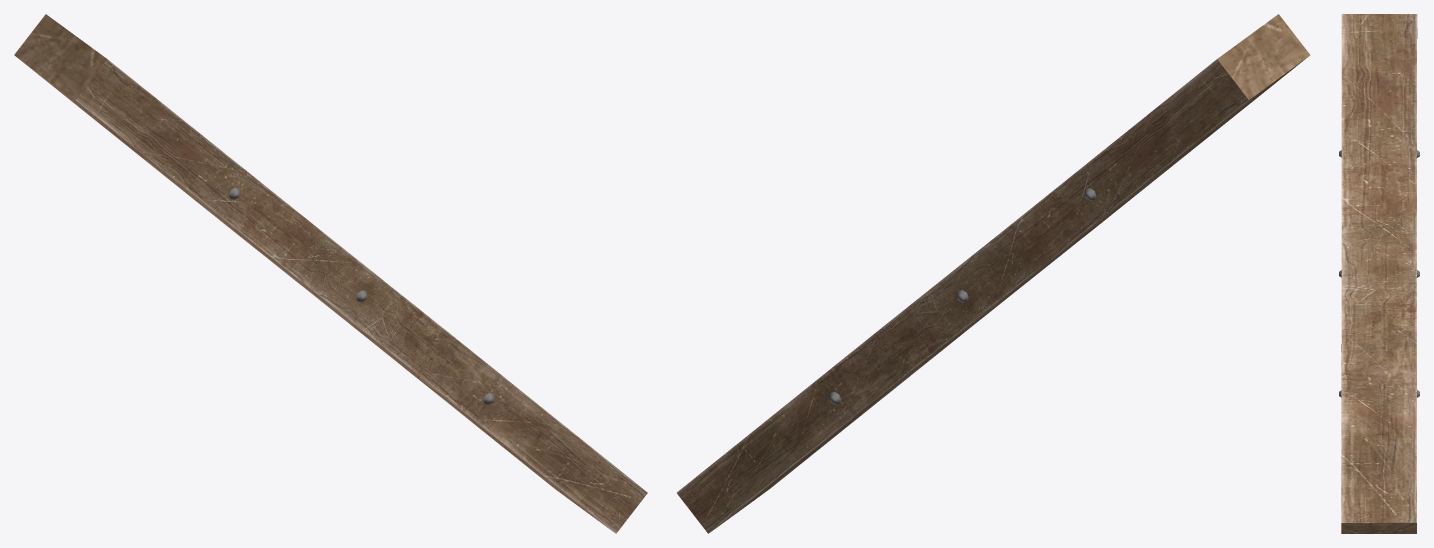
3 views of the same model, side by side, from view 1: azimuth 30°, elevation 25°; view 2: azimuth 150°, elevation 25°; view 3: azimuth 270°, elevation 25° (orthographic). The views are drawn at different scales.
Parts seen in each view (by area): view 1: SM_BB_T3_Beam_Thin_Large_Diagonal_LOD0; view 2: SM_BB_T3_Beam_Thin_Large_Diagonal_LOD0; view 3: SM_BB_T3_Beam_Thin_Large_Diagonal_LOD0.
Boxes of the visible parts, x1,y1,x2,y2 form: SM_BB_T3_Beam_Thin_Large_Diagonal_LOD0: [14, 14, 647, 533]; SM_BB_T3_Beam_Thin_Large_Diagonal_LOD0: [677, 14, 1310, 533]; SM_BB_T3_Beam_Thin_Large_Diagonal_LOD0: [1339, 14, 1419, 533].
Size of the model in its own units: 3.18 by 3.18 by 0.634.
1 material, 1 textured.
